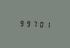nine: (18, 19, 23, 27), (24, 19, 29, 27)
one: (42, 20, 47, 28)
seven: (30, 19, 35, 28)
zero: (36, 20, 41, 28)
